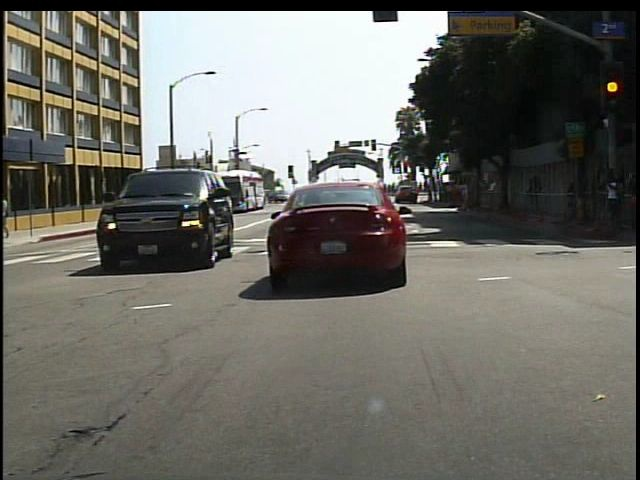person: (5, 190, 9, 238)
